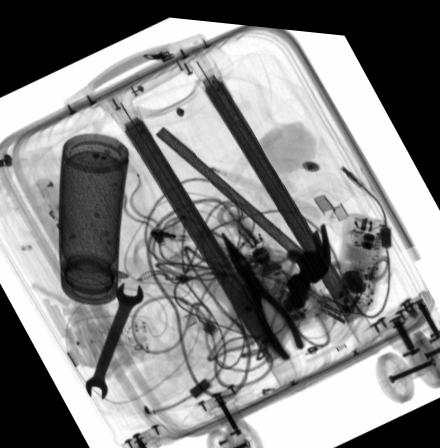Hammer: (152, 118, 332, 288)
Pliers: (219, 222, 304, 357)
Wrench: (86, 278, 144, 397)
